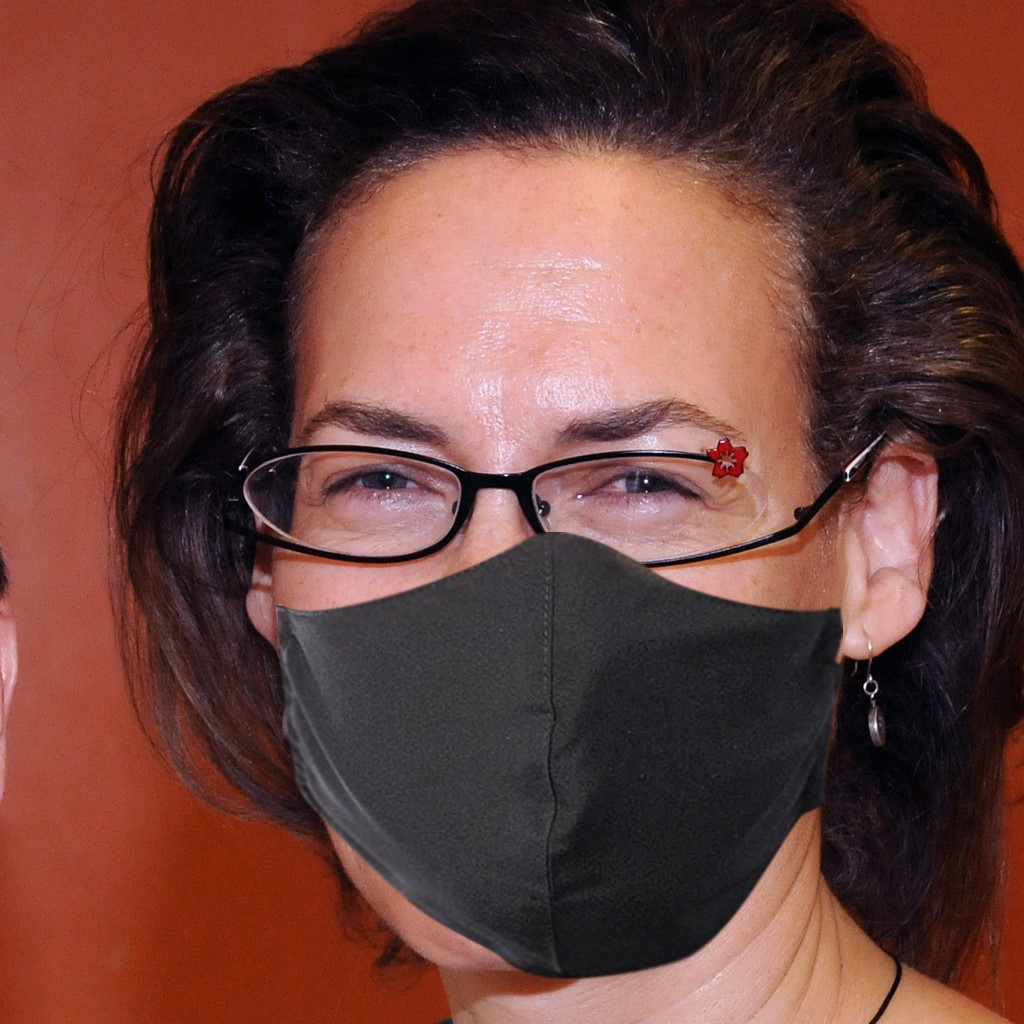con_mascara: (259, 128, 848, 988)
